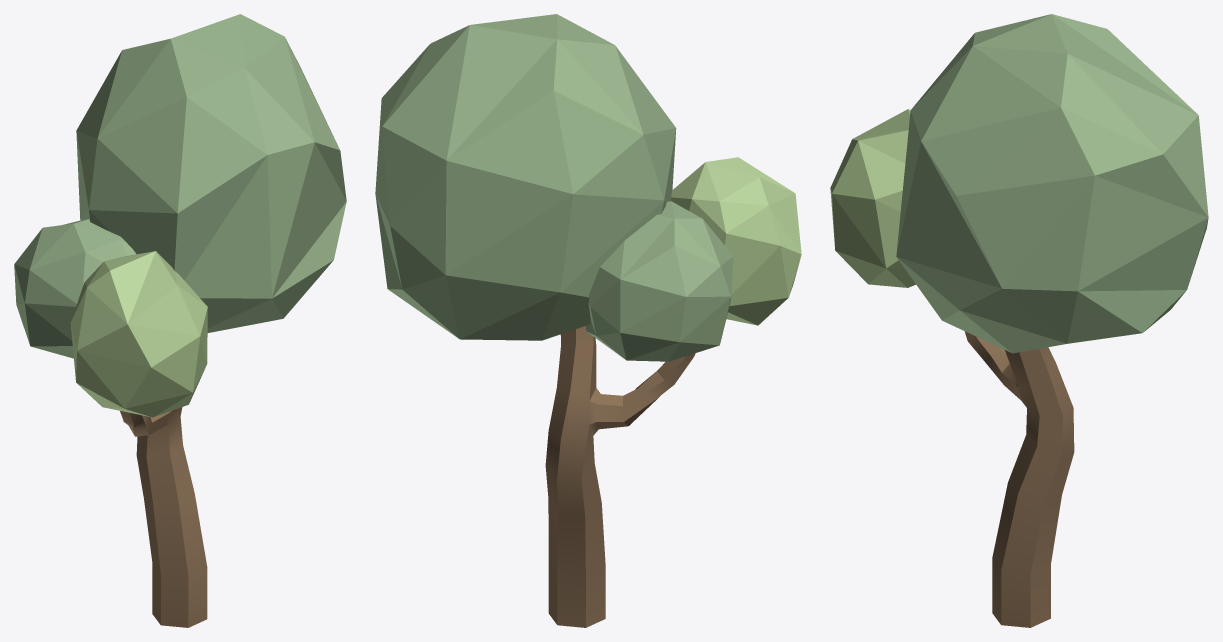
The model's file is tree2 1.fbx.
The picture shows the model from 3 angles, left to right: view 1: azimuth 30°, elevation 25°; view 2: azimuth 150°, elevation 25°; view 3: azimuth 270°, elevation 25°; orthographic projection. The views are drawn at different scales.
Parts seen in each view (by area): view 1: Leaves1, Leaves2, Branch, Leaves20; view 2: Leaves1, Branch, Leaves20, Leaves2; view 3: Leaves1, Branch, Leaves2.
Part boxes in pixels (x1=…): Leaves1: x1=76, y1=14, x2=346, y2=332; Leaves2: x1=70, y1=251, x2=207, y2=417; Branch: x1=120, y1=407, x2=207, y2=627; Leaves20: x1=14, y1=219, x2=136, y2=358; Leaves1: x1=375, y1=14, x2=676, y2=340; Branch: x1=545, y1=326, x2=695, y2=627; Leaves20: x1=585, y1=201, x2=733, y2=361; Leaves2: x1=670, y1=157, x2=801, y2=325; Leaves1: x1=896, y1=14, x2=1208, y2=353; Branch: x1=964, y1=331, x2=1074, y2=627; Leaves2: x1=830, y1=109, x2=915, y2=287.
Size of the model in its own units: 6.6 by 10.89 by 6.17.
